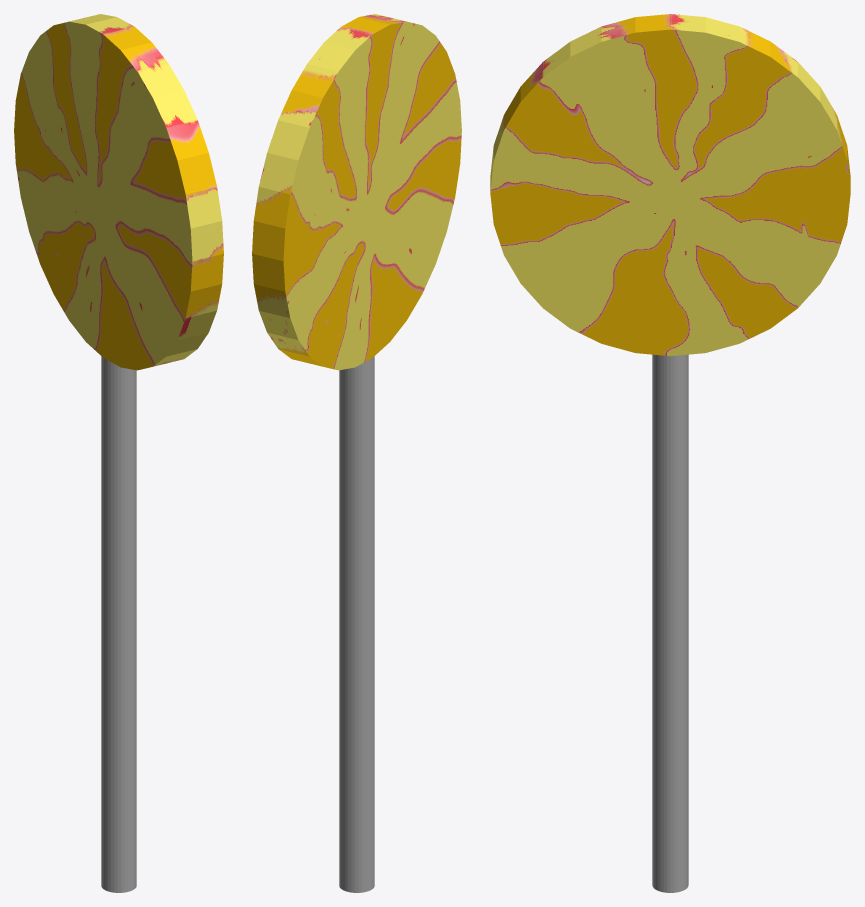
Rendered from lolipop2sh.fbx.
3 views of the same model, side by side, from view 1: azimuth 30°, elevation 25°; view 2: azimuth 150°, elevation 25°; view 3: azimuth 270°, elevation 25° (orthographic).
Visible parts, largest first — view 1: Cylinder.001, Cylinder; view 2: Cylinder.001, Cylinder; view 3: Cylinder.001, Cylinder.
Part boxes in pixels (x1,y1,x2,y2): Cylinder.001: [14, 14, 223, 370]; Cylinder: [101, 356, 136, 892]; Cylinder.001: [252, 14, 461, 370]; Cylinder: [339, 356, 374, 892]; Cylinder.001: [490, 14, 850, 356]; Cylinder: [652, 354, 688, 892].
Bounding box in the file's own units: 204 × 5286 × 2000.
2 materials, 1 textured.
